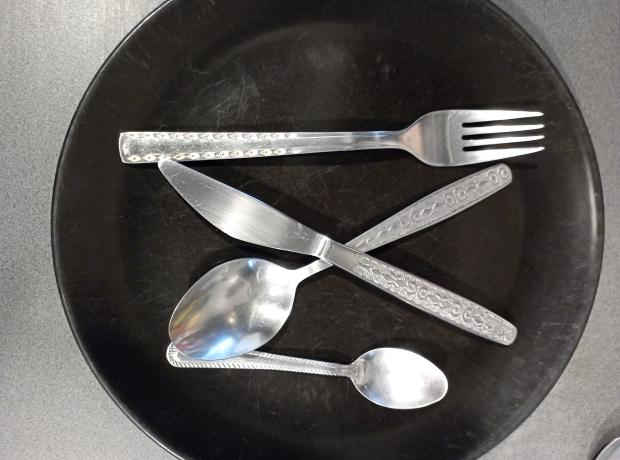metal: (167, 163, 513, 361), (157, 160, 518, 346), (118, 106, 548, 168), (167, 334, 450, 412)
